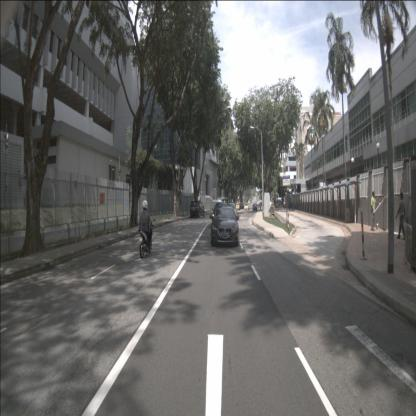human-pedestrian-adult: (371, 191, 386, 231), (396, 191, 406, 240), (260, 202, 262, 210)
vehicle-car: (211, 206, 239, 248), (212, 202, 229, 226), (190, 201, 204, 218), (227, 203, 237, 218), (252, 203, 258, 211), (235, 203, 240, 210), (244, 203, 249, 210)
vehicle-motorcycle: (138, 200, 154, 259)
